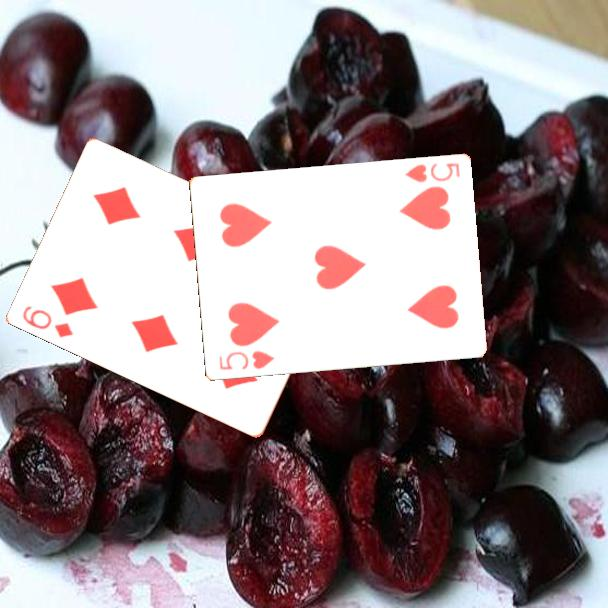d06: (19, 302, 77, 340)
h05: (215, 347, 277, 373), (401, 160, 462, 185)
